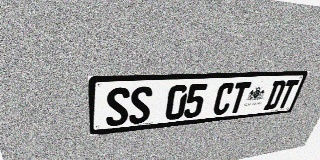0: (164, 85, 189, 121)
5: (183, 84, 208, 119)
C: (211, 82, 236, 116)
D: (263, 80, 287, 110)
S: (106, 87, 130, 127), (129, 86, 153, 124)
T: (227, 82, 252, 114), (276, 80, 300, 109)
